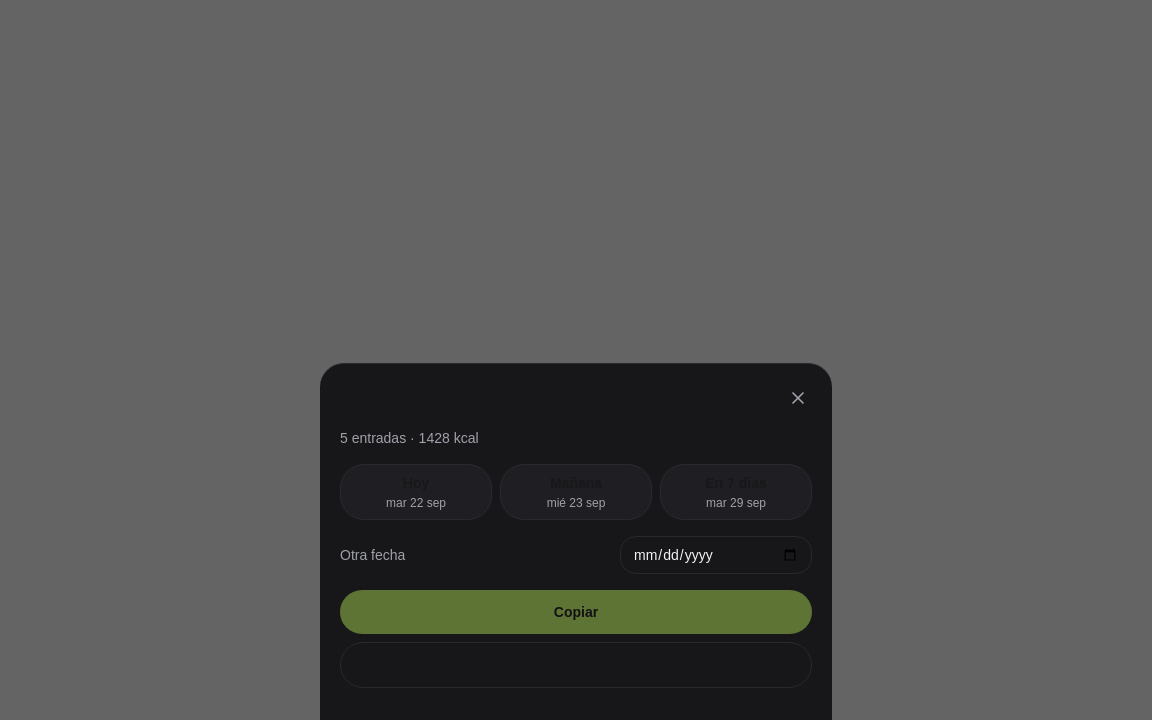
Test case: R7: atajos y botón principal › elegir un atajo lo marca, rellena el campo y activa «Copiar a hoy»
Click the button "Hoy mar 22 sep" at (416, 492), box [340,464,492,520]
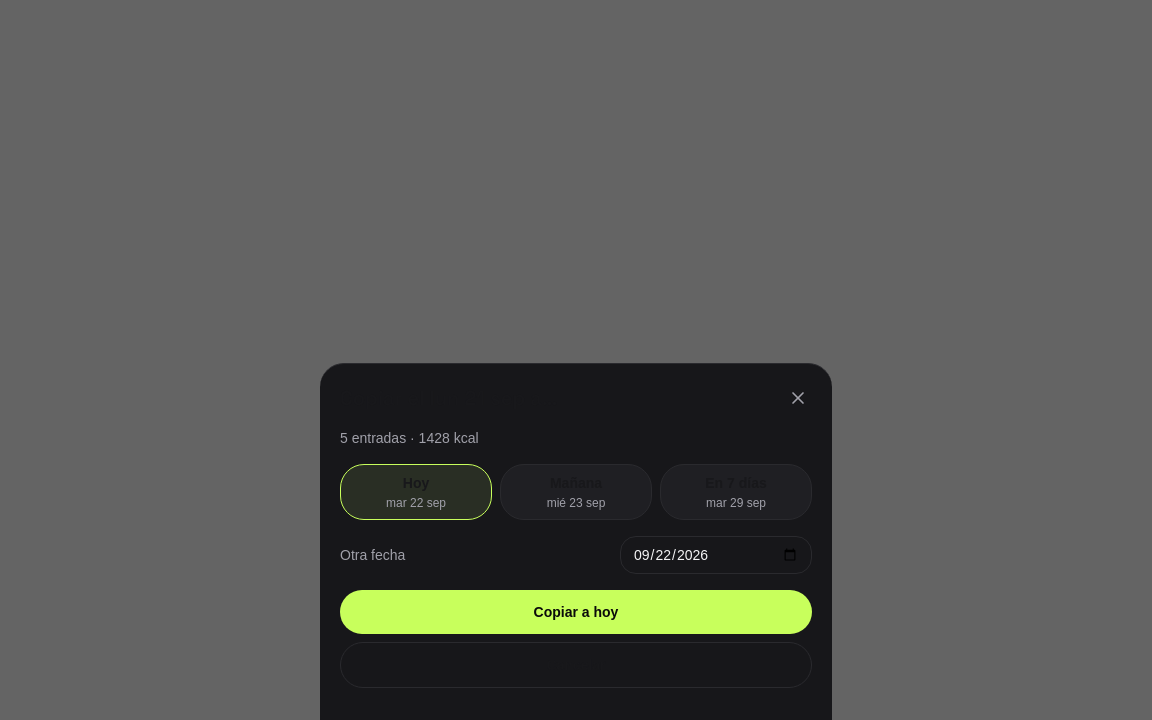
Expected: the date field labelled "Otra fecha" holds "2026-09-22", [620,536,812,574]
Expected: the button "Copiar a hoy" is enabled, [340,590,812,634]
